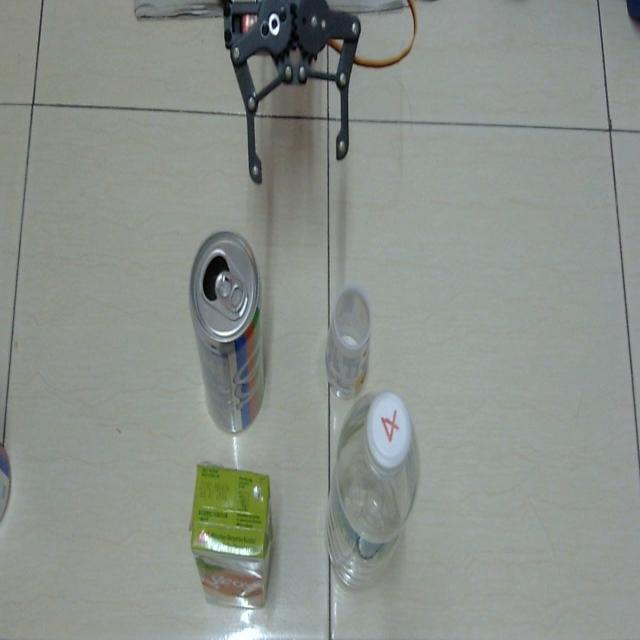Metal-stand-rotation: (188, 225, 270, 437)
Plastic-stand-rotation: (322, 387, 422, 594), (187, 459, 280, 609), (323, 279, 371, 395)
